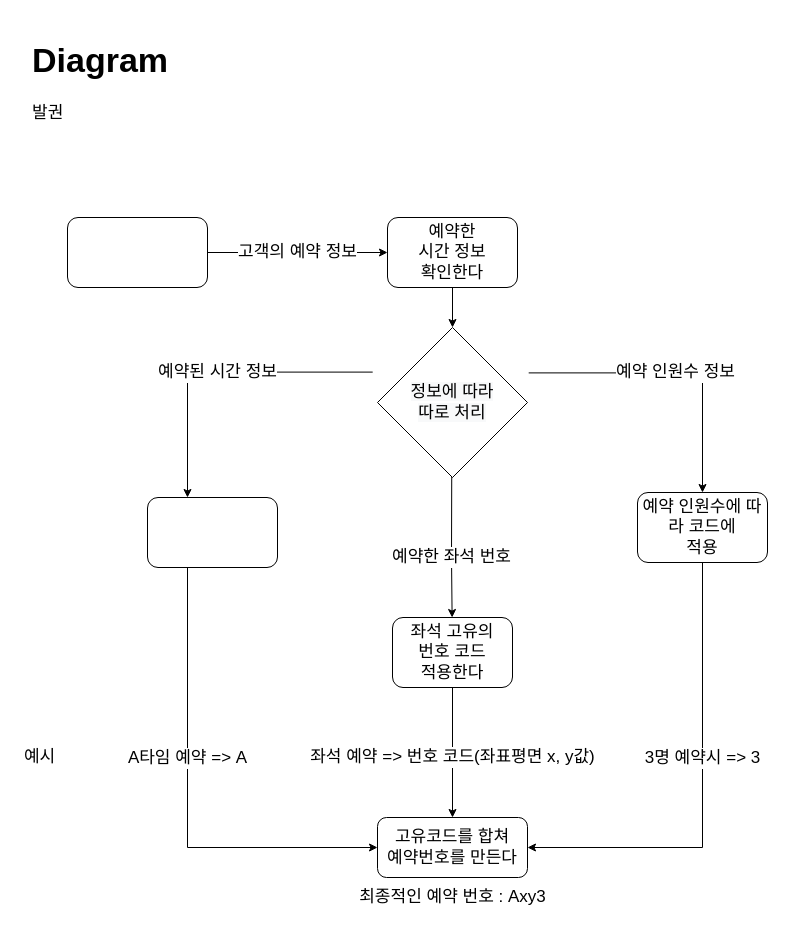
The diagram is 785 pixels wide and 944 high, and some of its shapes have lost their labels. The shapes that lost their labels are listed below. From the top down, each one's box as (x1, y1, x2, y2) in pixels, then its label:
(66, 216, 208, 288): 고객의 예약 정보 입력받는다
(146, 496, 278, 568): 시간에 따라 부여된 고유의 코드를 적용한다
